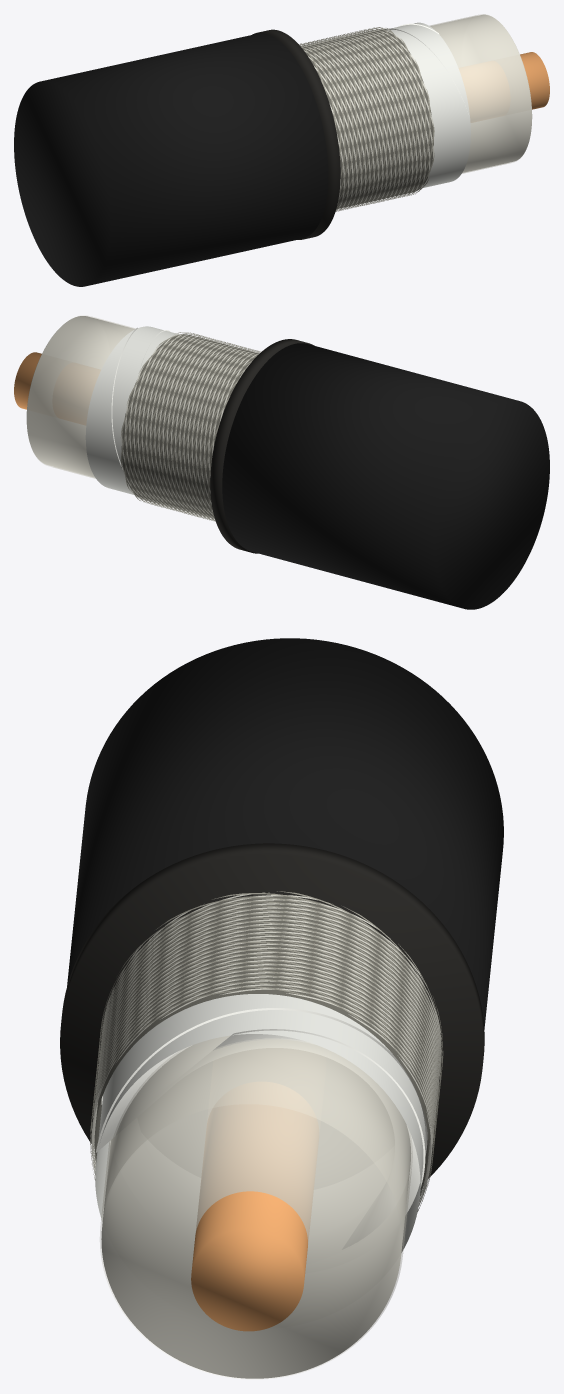
File: rf-ecoflex10.glb
The picture shows the model from 3 angles, top to bottom: view 1: azimuth 30°, elevation 25°; view 2: azimuth 150°, elevation 25°; view 3: azimuth 270°, elevation 25°; orthographic projection. The views are drawn at different scales.
Visible parts, largest first — view 1: matte black pvc jacket body, braid dark diamond recess, smooth dielectric skin, gas injected foam dielectric, duobond foil sleeve, jacket cut lip, solid center conductor continuous, braid left hand woven carrier 16, braid left hand woven carrier 01, braid left hand woven carrier 15, braid left hand woven carrier 02, braid left hand woven carrier 14 (+20 smaller); view 2: matte black pvc jacket body, braid dark diamond recess, smooth dielectric skin, gas injected foam dielectric, duobond foil sleeve, jacket cut lip, solid center conductor continuous, braid left hand woven carrier 11, braid left hand woven carrier 10, braid left hand woven carrier 12, braid left hand woven carrier 09, braid left hand woven carrier 13 (+17 smaller); view 3: matte black pvc jacket body, gas injected foam dielectric, jacket cut lip, solid center conductor continuous, smooth dielectric skin, braid dark diamond recess, duobond foil sleeve, subtle foil wrap lap, braid left hand woven carrier 12, braid left hand woven carrier 11, braid left hand woven carrier 13, braid right hand woven carrier 14 (+22 smaller).
Part boxes in pixels (x1,y1,x2,y2): matte black pvc jacket body: (14,33,328,286); braid dark diamond recess: (302,29,433,209); smooth dielectric skin: (429,14,531,173); gas injected foam dielectric: (430,14,532,172); duobond foil sleeve: (386,22,470,187); jacket cut lip: (252,29,340,239); solid center conductor continuous: (520,52,549,109); braid left hand woven carrier 16: (308,28,417,202); braid left hand woven carrier 01: (312,39,421,201); braid left hand woven carrier 15: (304,27,413,203); braid left hand woven carrier 02: (317,39,426,206); braid left hand woven carrier 14: (299,27,409,204); matte black pvc jacket body: (222,343,549,609); braid dark diamond recess: (121,334,258,518); smooth dielectric skin: (27,315,135,478); gas injected foam dielectric: (26,316,134,477); duobond foil sleeve: (85,326,178,494); jacket cut lip: (210,339,314,553); solid center conductor continuous: (14,352,41,409); braid left hand woven carrier 11: (125,339,247,519); braid left hand woven carrier 10: (129,340,239,520); braid left hand woven carrier 12: (121,337,252,518); braid left hand woven carrier 09: (133,341,232,521); braid left hand woven carrier 13: (120,336,256,517); matte black pvc jacket body: (67,638,503,1029); gas injected foam dielectric: (101,1035,410,1378); jacket cut lip: (60,843,484,1178); solid center conductor continuous: (191,1104,318,1331); smooth dielectric skin: (100,1036,412,1379); braid dark diamond recess: (94,895,436,1195); duobond foil sleeve: (95,994,425,1252); subtle foil wrap lap: (95,1008,427,1249); braid left hand woven carrier 12: (93,905,440,1185); braid left hand woven carrier 11: (94,901,440,1211); braid left hand woven carrier 13: (93,909,439,1126); braid right hand woven carrier 14: (91,907,441,1172).
Bounding box in the file's own units: 6.56 × 2.58 × 2.7.
